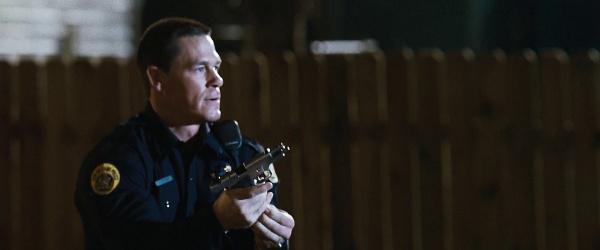Gun: (210, 140, 293, 198)
